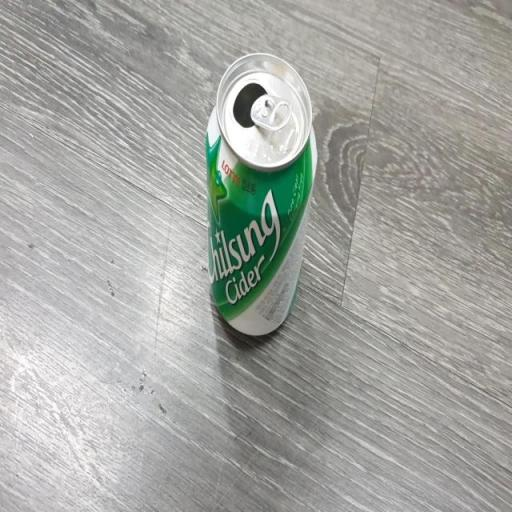metal: (192, 41, 331, 360)
